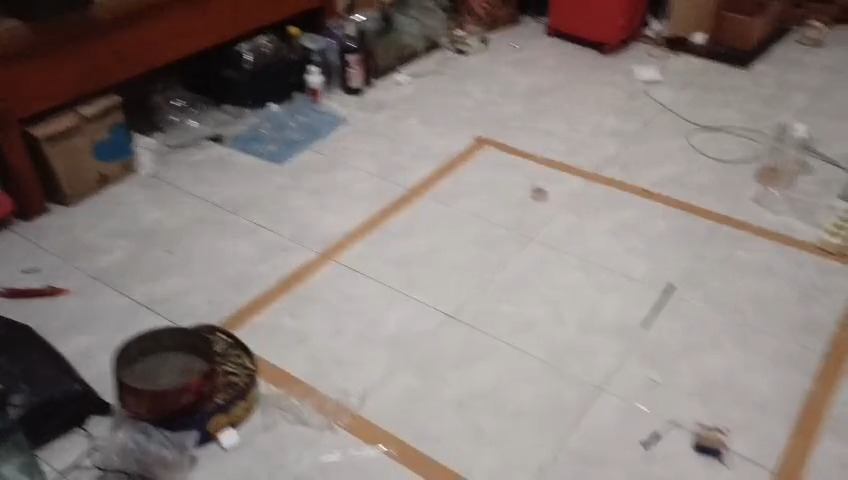floor marking: (223, 136, 847, 330), (257, 354, 461, 479), (774, 307, 847, 479)
